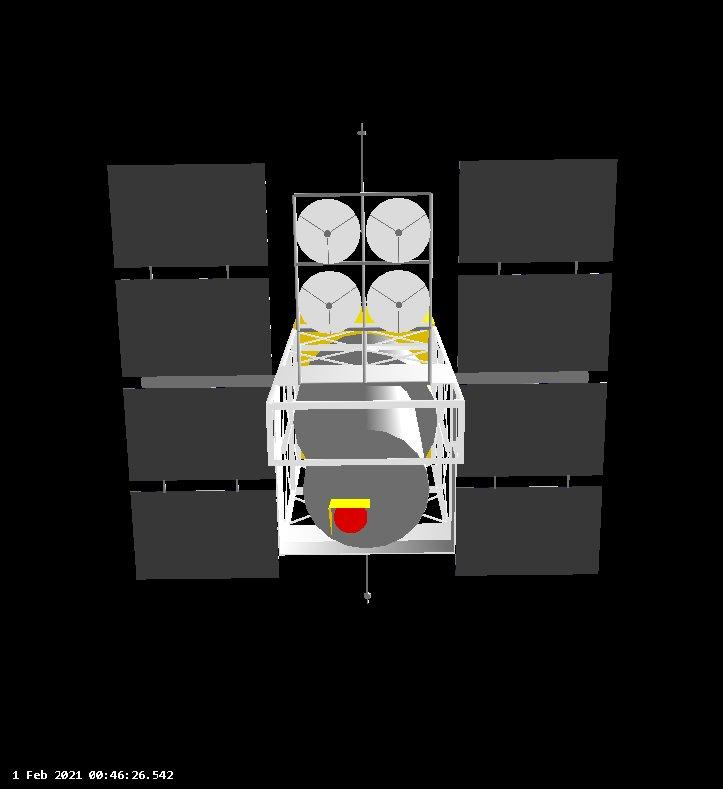antenna: (362, 197, 434, 267), (365, 265, 433, 337), (299, 271, 366, 339), (297, 197, 361, 267), (352, 118, 371, 202), (357, 548, 378, 605)
body: (267, 305, 464, 559)
solar: (103, 160, 283, 585), (449, 153, 622, 578)
